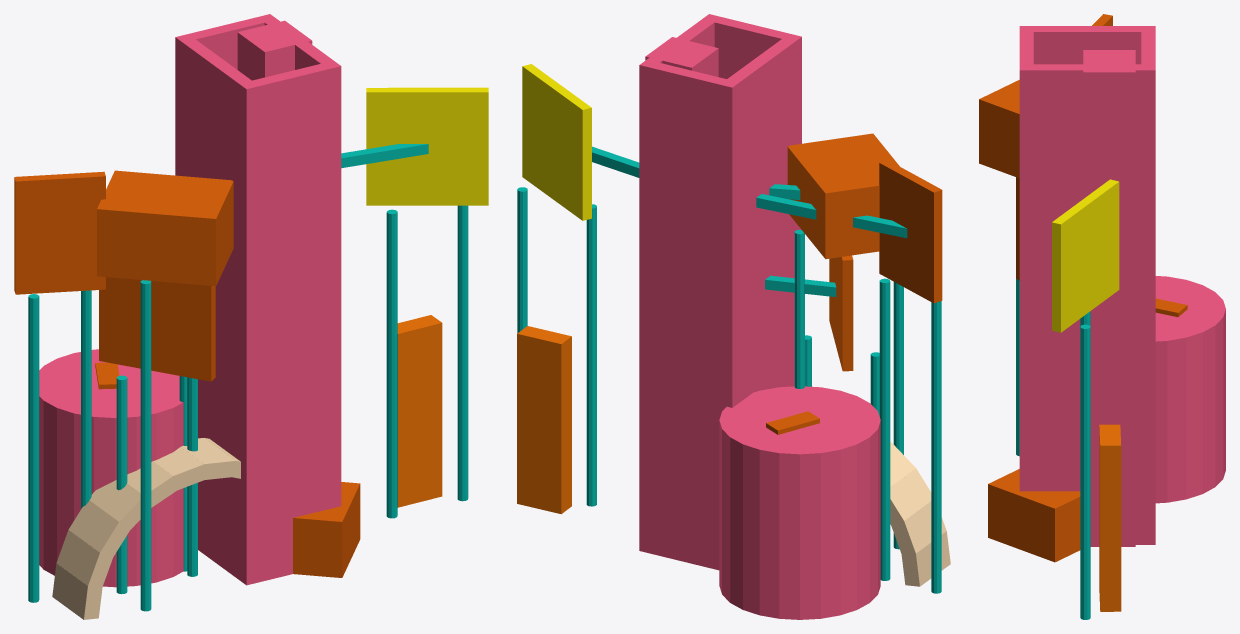
Rendered from folie_tag_005.glb.
3 renders of one model, left to right at view 1: azimuth 30°, elevation 25°; view 2: azimuth 150°, elevation 25°; view 3: azimuth 270°, elevation 25°, orthographic. The views are drawn at different scales.
Parts seen in each view (by area): view 1: folie_tag_005_00_tower, folie_tag_005_line, folie_tag_005_01_drum, folie_tag_005_03_block, folie_tag_005_05_panel, folie_tag_005_02_arc, folie_tag_005_08_panel, folie_tag_005_06_panel, folie_tag_005_04_fin, folie_tag_005_09_block, folie_tag_005_core; view 2: folie_tag_005_00_tower, folie_tag_005_01_drum, folie_tag_005_line, folie_tag_005_04_fin, folie_tag_005_03_block, folie_tag_005_05_panel, folie_tag_005_08_panel, folie_tag_005_02_arc, folie_tag_005_06_panel, folie_tag_005_core, folie_tag_005_07_fin; view 3: folie_tag_005_00_tower, folie_tag_005_core, folie_tag_005_01_drum, folie_tag_005_05_panel, folie_tag_005_09_block, folie_tag_005_04_fin, folie_tag_005_line, folie_tag_005_03_block, folie_tag_005_07_fin, folie_tag_005_06_panel.
Part boxes in pixels (x1,y1,x2,y2): folie_tag_005_00_tower: (175,14,341,585); folie_tag_005_line: (28,144,468,611); folie_tag_005_01_drum: (39,349,183,587); folie_tag_005_03_block: (97,170,233,285); folie_tag_005_05_panel: (366,87,488,205); folie_tag_005_02_arc: (52,438,240,619); folie_tag_005_08_panel: (14,171,105,294); folie_tag_005_06_panel: (99,277,215,381); folie_tag_005_04_fin: (397,315,442,507); folie_tag_005_09_block: (293,482,360,577); folie_tag_005_core: (237,20,312,80); folie_tag_005_00_tower: (639,14,801,570); folie_tag_005_01_drum: (719,386,880,619); folie_tag_005_line: (517,146,941,593); folie_tag_005_04_fin: (517,326,571,514); folie_tag_005_03_block: (787,133,899,259); folie_tag_005_05_panel: (522,64,591,220); folie_tag_005_08_panel: (879,160,942,303); folie_tag_005_02_arc: (890,442,950,586); folie_tag_005_06_panel: (829,255,853,371); folie_tag_005_core: (645,37,718,76); folie_tag_005_07_fin: (766,411,819,434); folie_tag_005_00_tower: (1019,26,1155,544); folie_tag_005_core: (1083,50,1135,546); folie_tag_005_01_drum: (1155,276,1225,503); folie_tag_005_05_panel: (1052,179,1119,332); folie_tag_005_09_block: (988,469,1080,562); folie_tag_005_04_fin: (1099,424,1121,611); folie_tag_005_line: (1016,279,1090,619); folie_tag_005_03_block: (979,80,1019,178); folie_tag_005_07_fin: (1155,298,1187,317); folie_tag_005_06_panel: (1016,177,1019,280).
Bounding box in the file's own units: 10.46 × 11.05 × 5.18.
